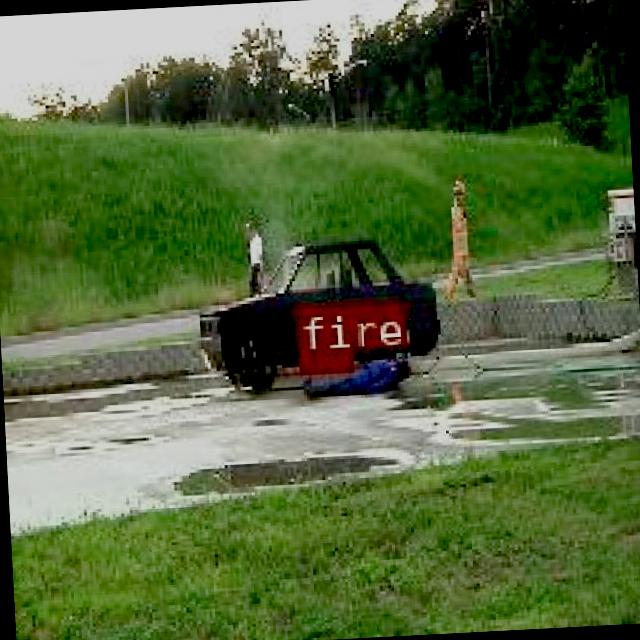fire: (298, 349, 349, 372)
